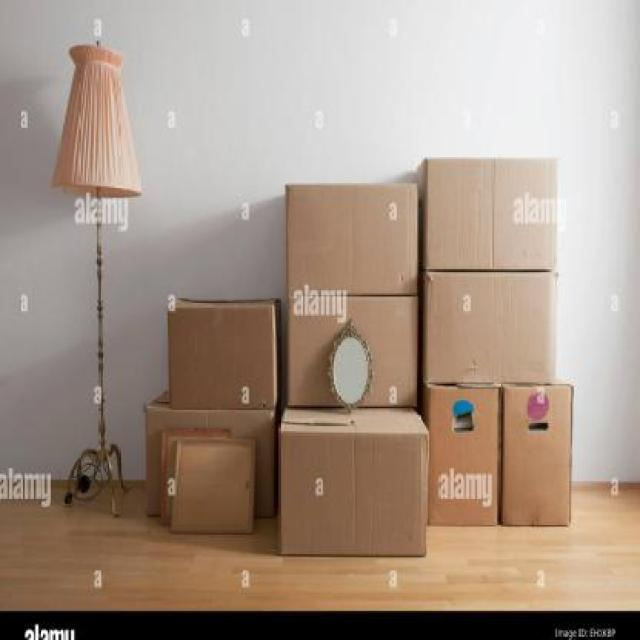box: (275, 403, 434, 569), (135, 392, 276, 540), (416, 150, 564, 278), (282, 174, 424, 306), (283, 290, 425, 413), (418, 274, 556, 390), (166, 287, 280, 413), (498, 372, 577, 542), (420, 379, 502, 535)
